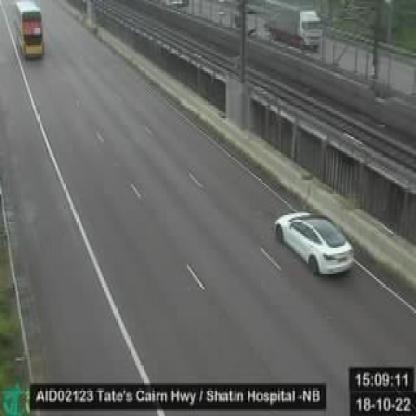Bus: (13, 2, 46, 61)
Car: (275, 209, 356, 277)
